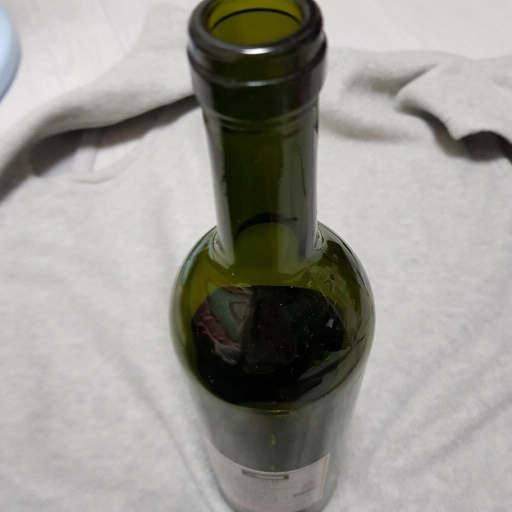Glass_2: (160, 2, 385, 512)
